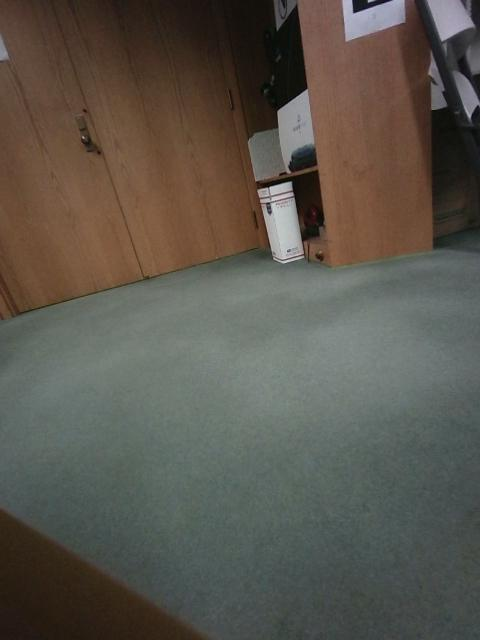block: (81, 336, 130, 381)
